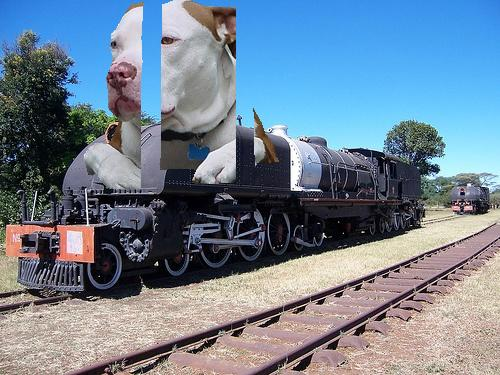tampered: (85, 1, 279, 189)
